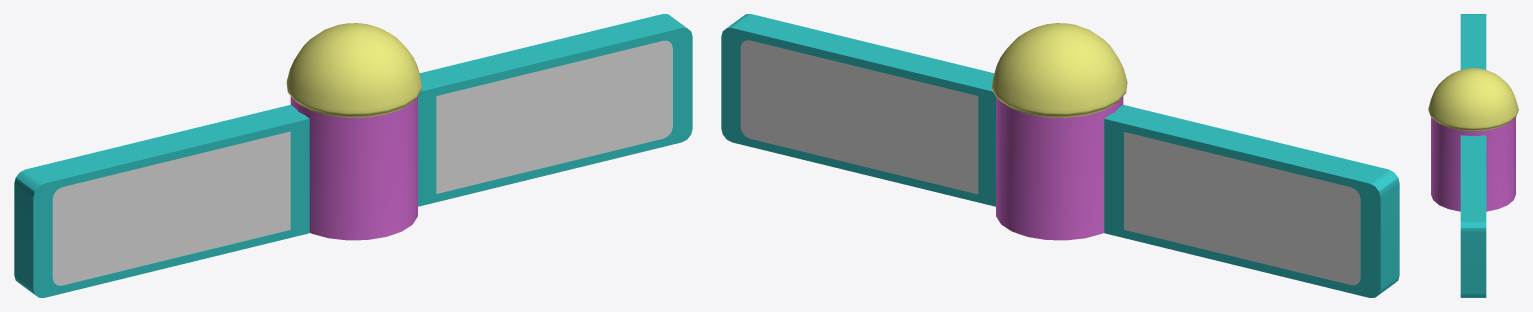
Rendered from Obstacle03.fbx.
3 views of the same model, side by side, from view 1: azimuth 30°, elevation 25°; view 2: azimuth 150°, elevation 25°; view 3: azimuth 270°, elevation 25° (orthographic). The views are drawn at different scales.
Visible parts, largest first — view 1: palm01_msh, Palm02_msh, Obstacle03_msh; view 2: palm01_msh, Palm02_msh, Obstacle03_msh; view 3: Obstacle03_msh, Palm02_msh, palm01_msh.
Part boxes in pixels (x1=…): palm01_msh: x1=14, y1=105, x2=309, y2=297; Palm02_msh: x1=418, y1=14, x2=692, y2=206; Obstacle03_msh: x1=286, y1=23, x2=421, y2=240; palm01_msh: x1=1104, y1=105, x2=1399, y2=297; Palm02_msh: x1=721, y1=14, x2=995, y2=206; Obstacle03_msh: x1=992, y1=23, x2=1127, y2=240; Obstacle03_msh: x1=1428, y1=68, x2=1518, y2=211; Palm02_msh: x1=1460, y1=135, x2=1486, y2=297; palm01_msh: x1=1460, y1=14, x2=1486, y2=69.
Size of the model in its own units: 11.19 by 2.99 by 2.
